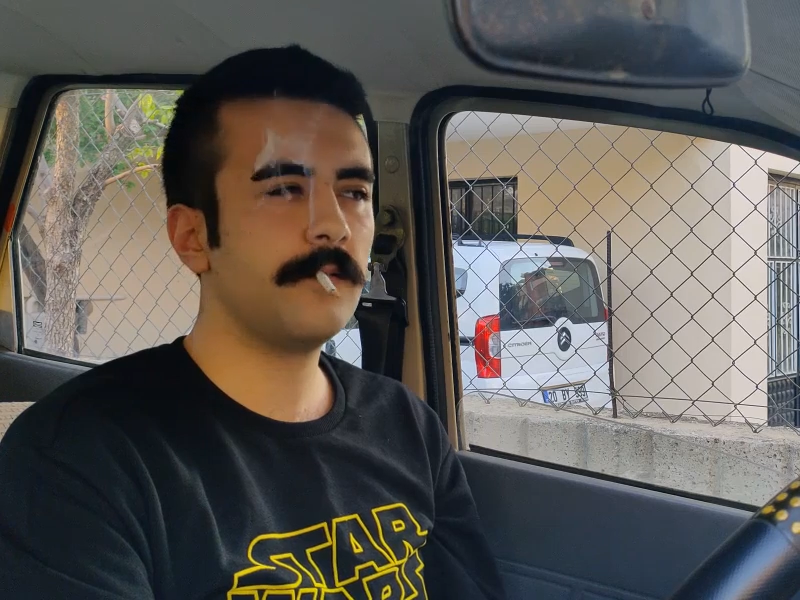sigara: (313, 269, 342, 301)
